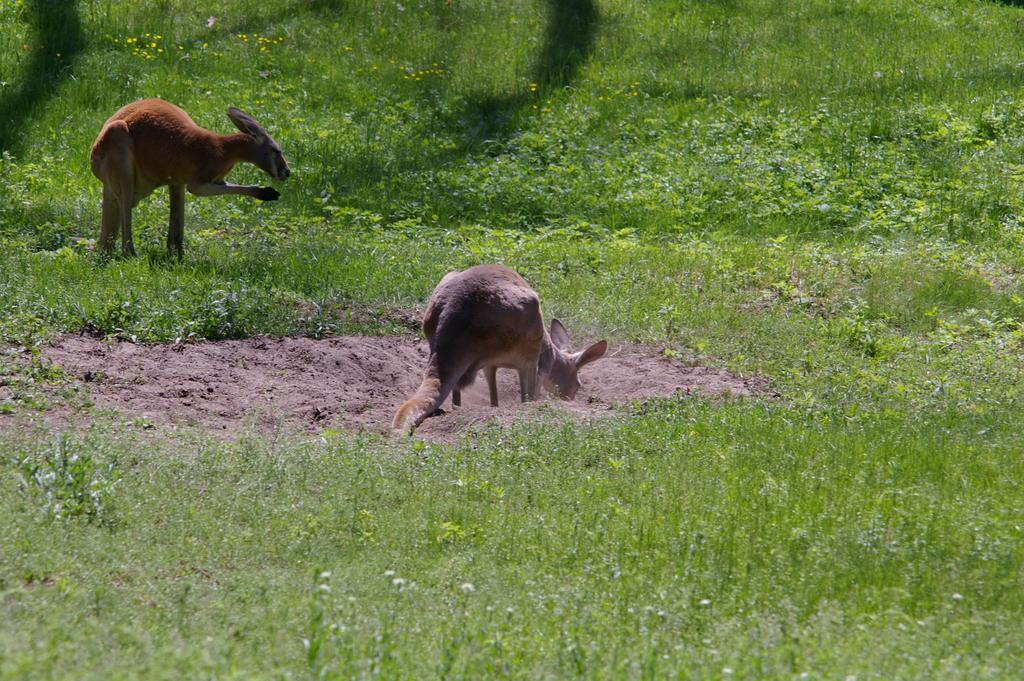kangaroo: (388, 260, 606, 427), (88, 100, 284, 265)
